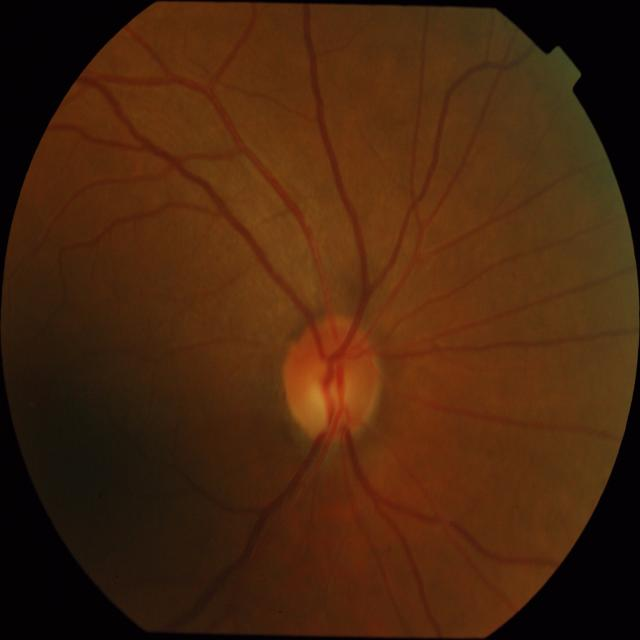OC: (308, 373, 355, 422)
OD: (280, 319, 382, 442)
